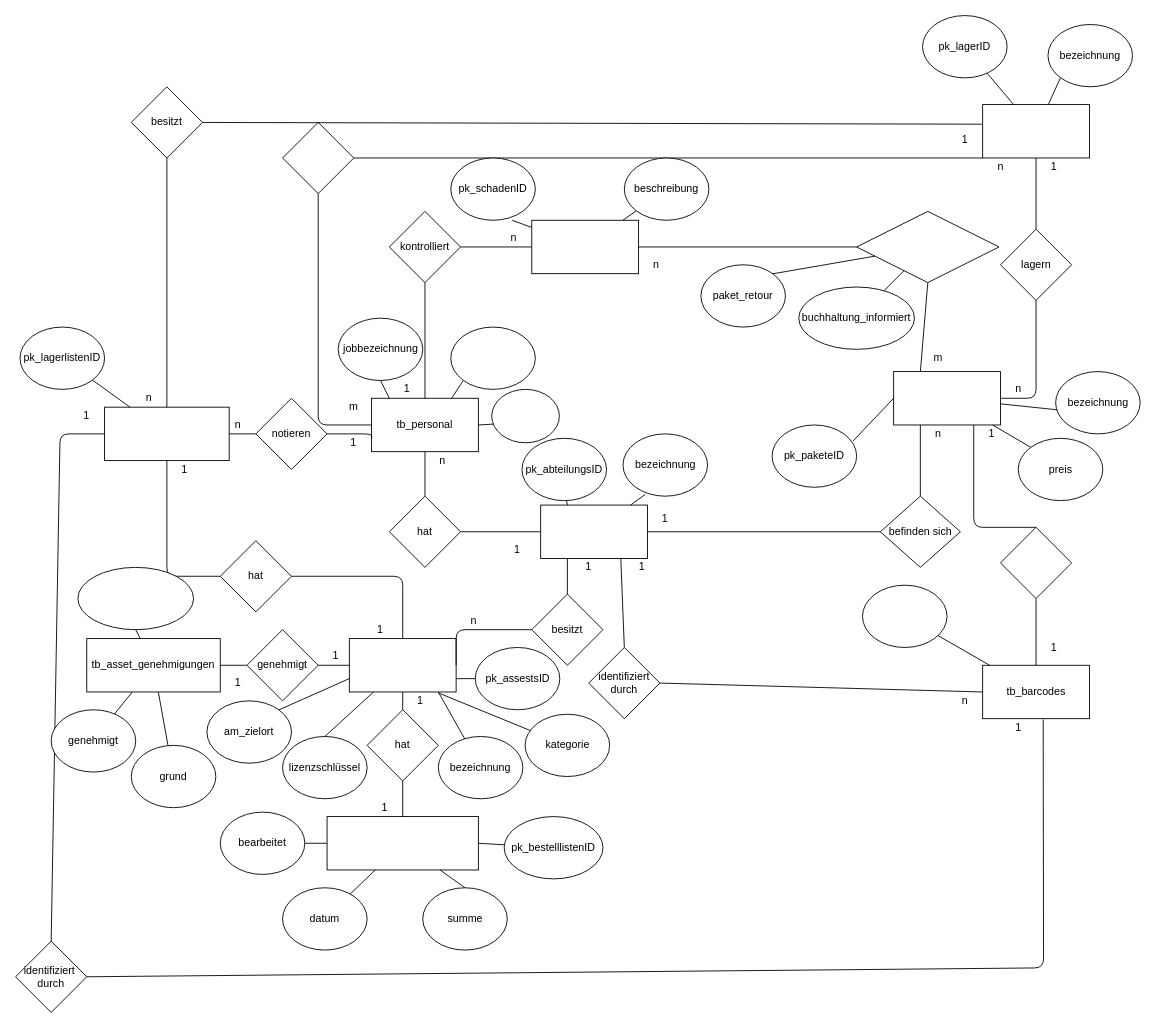
This 1156x1028 diagram has some shape labels left out. Each missing label, with the centre of its shape:
"arbeiten" goes at (318,157).
"haben" goes at (1036,562).
"name" goes at (525,415).
"pk_barcodeID" goes at (904,615).
"pk_genehmigungsID" goes at (135,598).
"pk_personalID" goes at (492,357).
"tb_abteilungen" goes at (593,531).
"tb_assets" goes at (402,665).
"tb_bestelllisten_eintraege" goes at (402,843).
"tb_lager" goes at (1035,131).
"tb_lagerlisten_eintraege" goes at (166,433).
"tb_packet_hat_schaden" goes at (927,246).
"tb_pakete" goes at (946,398).
"tb_schaeden" goes at (585,246).
